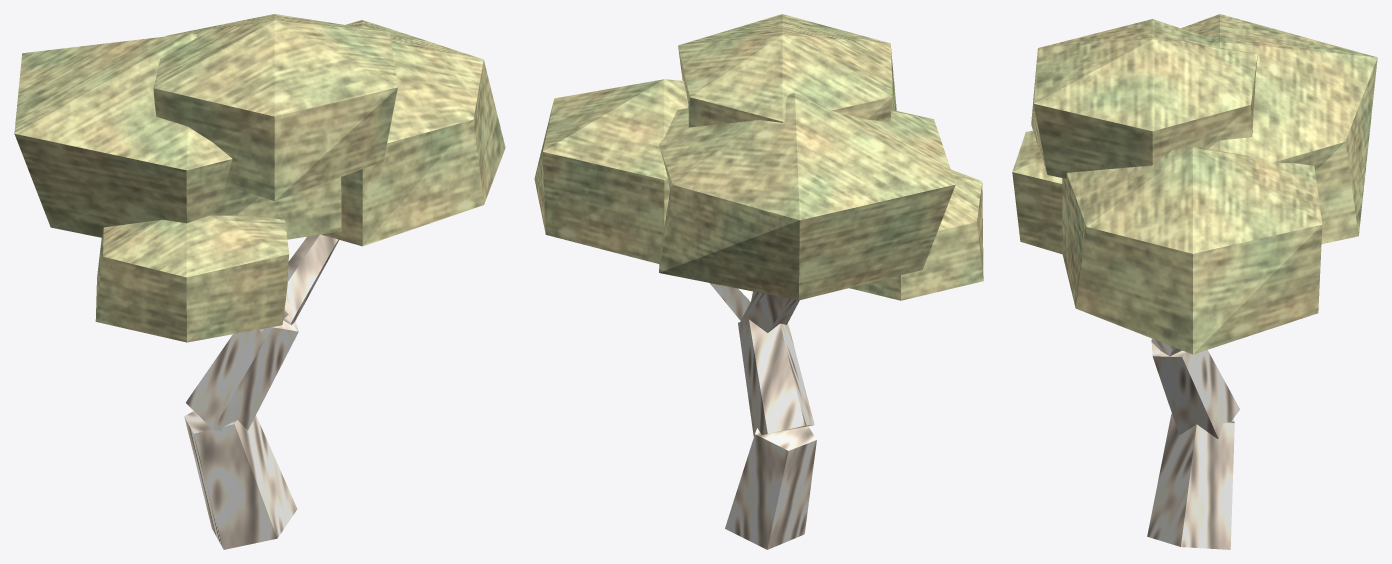
The model's file is ulivo.obj.
3 views of the same model, side by side, from view 1: azimuth 30°, elevation 25°; view 2: azimuth 150°, elevation 25°; view 3: azimuth 270°, elevation 25° (orthographic). The views are drawn at different scales.
Visible parts, largest first — view 1: ulivo; view 2: ulivo; view 3: ulivo.
Part boxes in pixels (box(x1,y1,x2,y2)): ulivo: box(14, 14, 505, 549); ulivo: box(534, 14, 983, 549); ulivo: box(1012, 14, 1377, 549).
Bounding box in the file's own units: 3.94 × 4.19 × 2.71.
4 materials, 4 textured.
